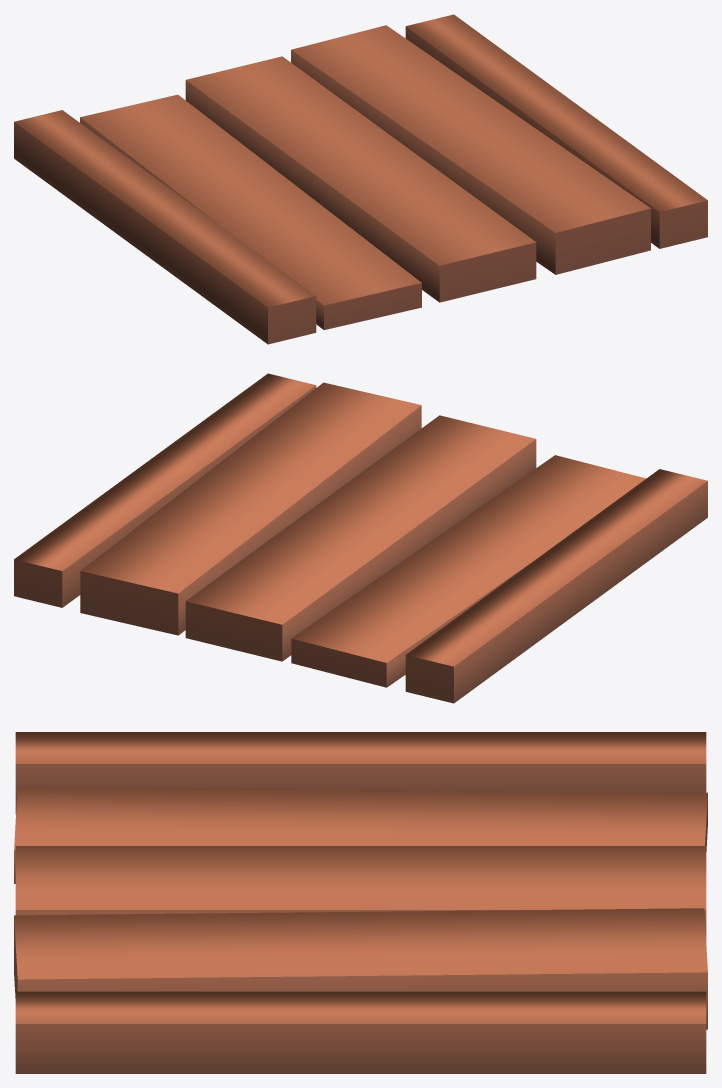
Rendered from platform.glb.
3 views of the same model, one above another, from view 1: azimuth 30°, elevation 25°; view 2: azimuth 150°, elevation 25°; view 3: azimuth 270°, elevation 25° (orthographic). The views are drawn at different scales.
Parts seen in each view (by area): view 1: platform; view 2: platform; view 3: platform.
Part boxes in pixels (x1,y1,x2,y2): platform: [14, 14, 707, 344]; platform: [14, 373, 707, 703]; platform: [14, 732, 707, 1073].
Bounding box in the file's own units: 2.5 × 0.228 × 2.51.
1 material, 1 textured.
